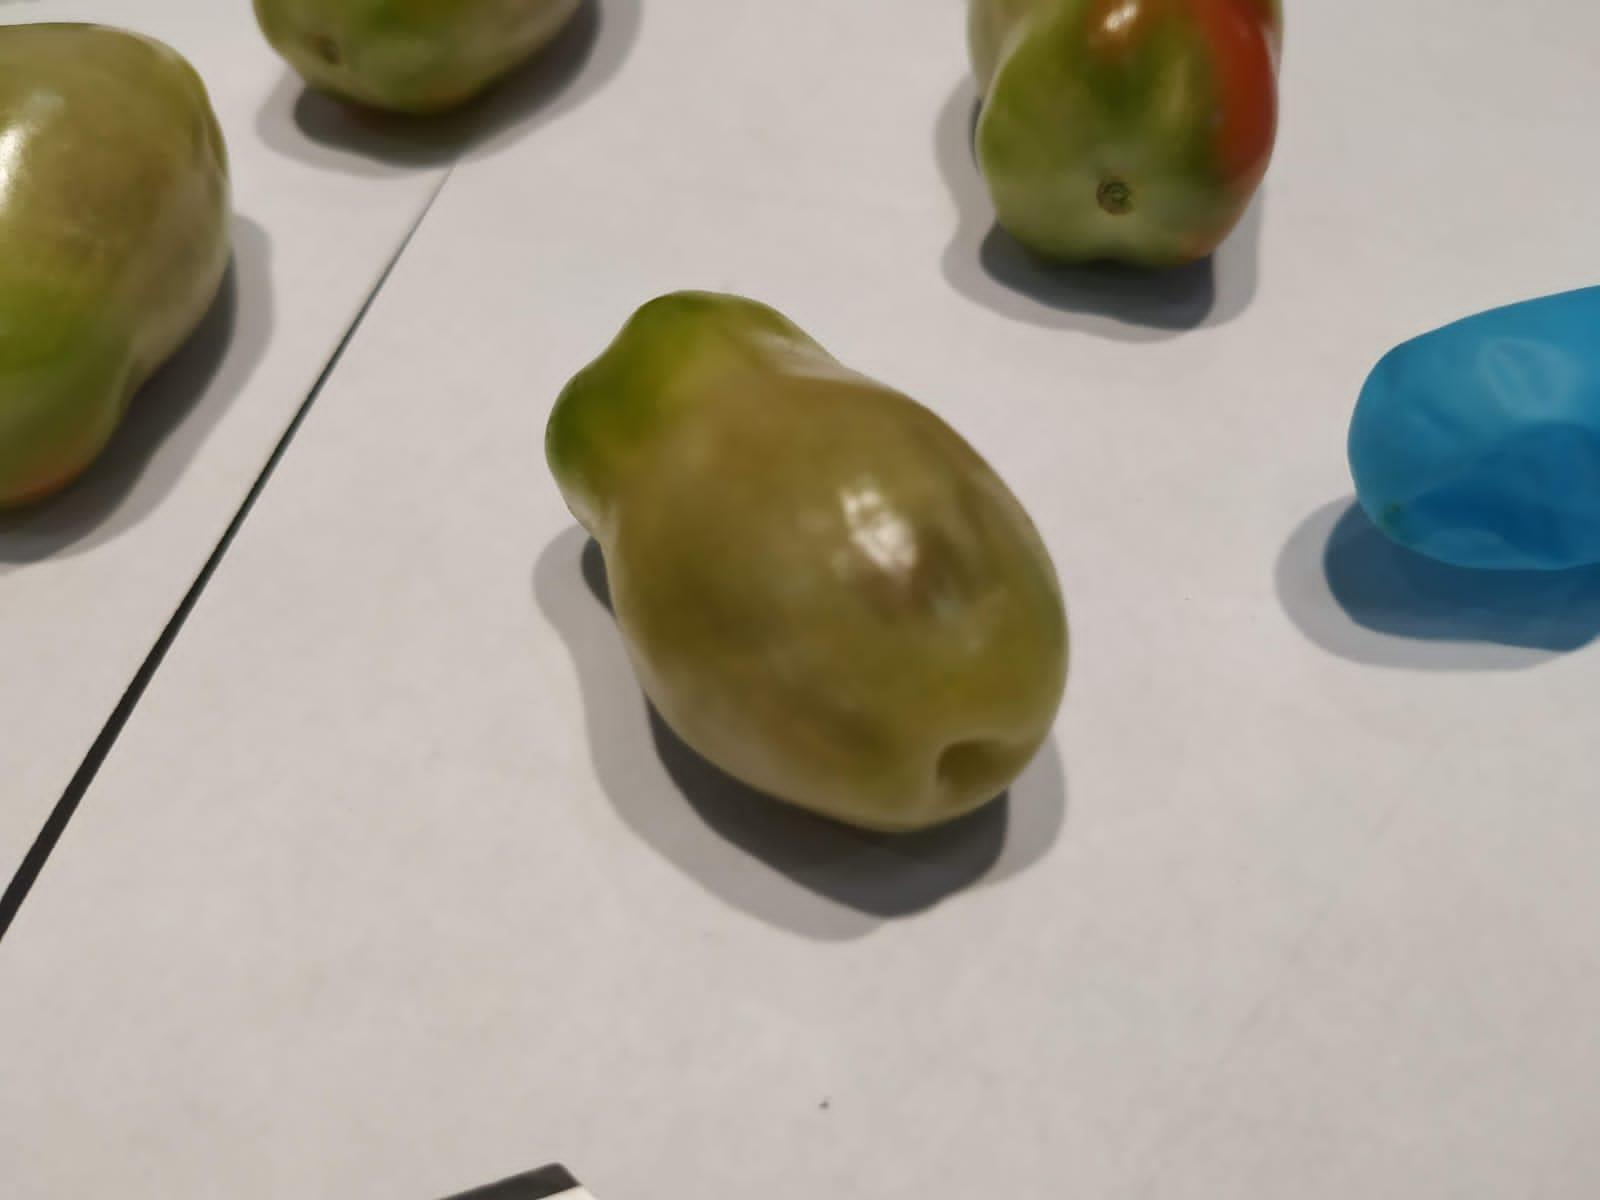Tomate Rugoso: (546, 289, 1068, 831), (0, 21, 228, 508), (969, 0, 1281, 266)
